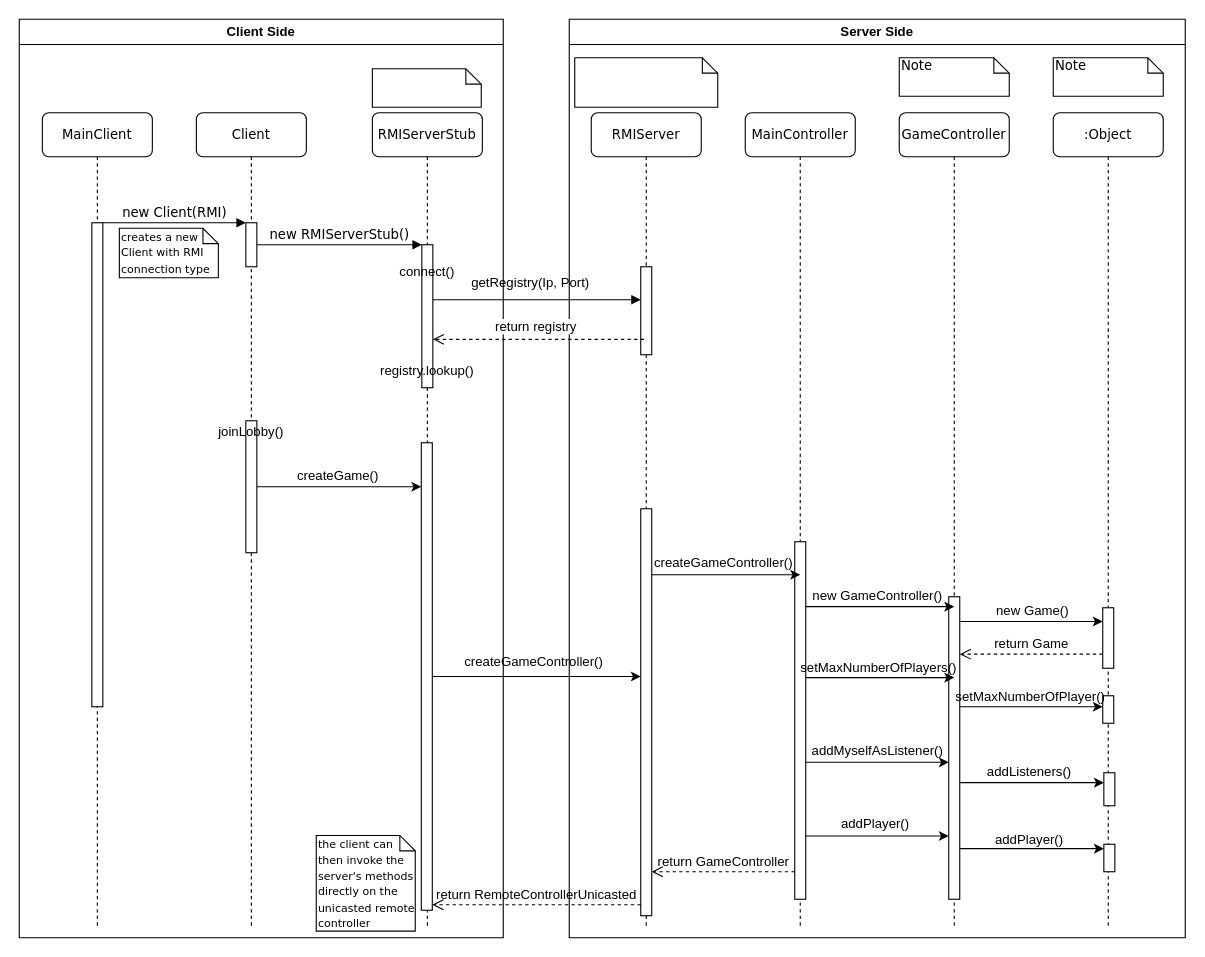
The diagram is 1205 pixels wide and 957 high, and some of its shapes have lost their labels. The centre of each missing label's shape, as x and y in pixels:
"implements MainControllerInterface, used for MVC pattern" goes at point 646,82.
"implements the ServerInterface" goes at point 426,87.
